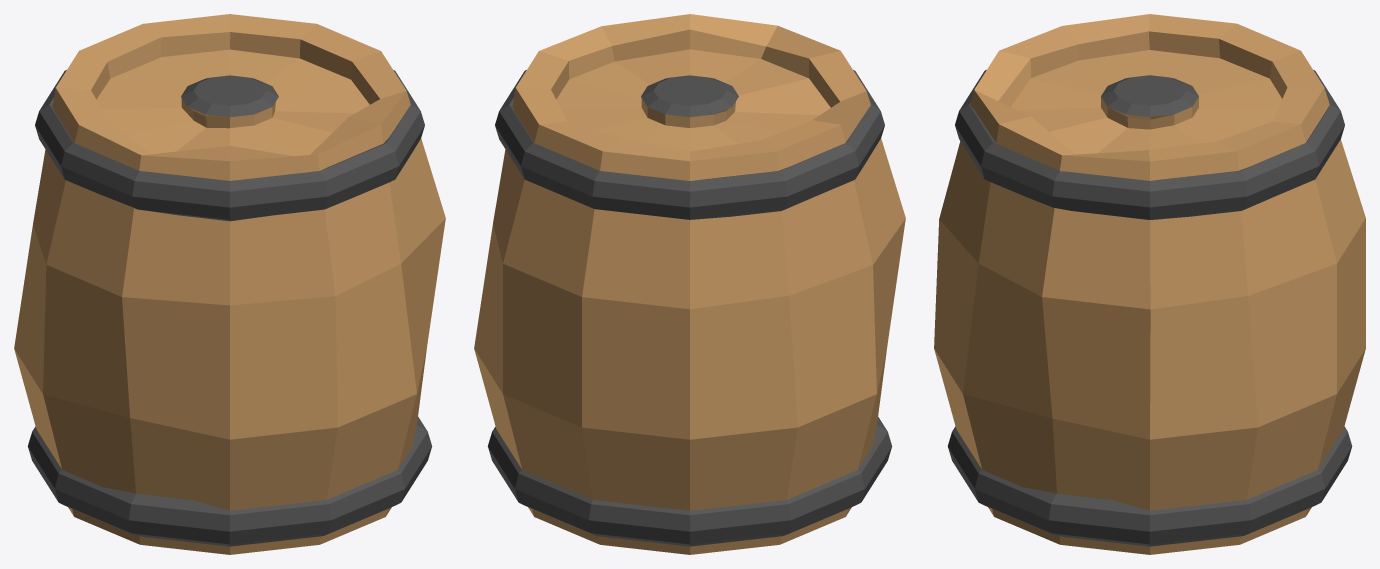
Rendered from barrel_crash.fbx.
The picture shows the model from 3 angles, left to right: view 1: azimuth 30°, elevation 25°; view 2: azimuth 150°, elevation 25°; view 3: azimuth 270°, elevation 25°; orthographic projection.
Visible parts, largest first — view 1: Body.004, Body.003, Body.002, Top Tight.001, Bottom Tight.001, Body.005, Cover.001; view 2: Body.002, Body.001, Body.004, Top Tight.001, Bottom Tight.001, Body.005, Body.003, Cover.001; view 3: Body.005, Body.002, Body.003, Body.001, Top Tight.001, Bottom Tight.001, Body.004, Cover.001.
Part boxes in pixels (bbox=[...]): Body.004: bbox=[14, 107, 332, 554]; Body.003: bbox=[230, 117, 445, 554]; Body.002: bbox=[14, 14, 380, 393]; Top Tight.001: bbox=[35, 70, 424, 221]; Bottom Tight.001: bbox=[27, 416, 432, 546]; Body.005: bbox=[272, 51, 445, 515]; Cover.001: bbox=[181, 75, 278, 117]; Body.002: bbox=[493, 51, 876, 439]; Body.001: bbox=[474, 224, 797, 554]; Body.004: bbox=[690, 49, 905, 544]; Top Tight.001: bbox=[495, 70, 884, 219]; Bottom Tight.001: bbox=[487, 416, 892, 546]; Body.005: bbox=[539, 14, 689, 99]; Body.003: bbox=[690, 14, 839, 113]; Cover.001: bbox=[641, 75, 738, 117]; Body.005: bbox=[963, 107, 1257, 554]; Body.002: bbox=[1149, 14, 1365, 309]; Body.003: bbox=[934, 51, 1052, 515]; Body.001: bbox=[1240, 218, 1365, 544]; Top Tight.001: bbox=[955, 69, 1344, 219]; Bottom Tight.001: bbox=[947, 426, 1352, 546]; Body.004: bbox=[999, 14, 1150, 131]; Cover.001: bbox=[1101, 75, 1198, 116].
Bounding box in the file's own units: 200 × 200 × 200.
